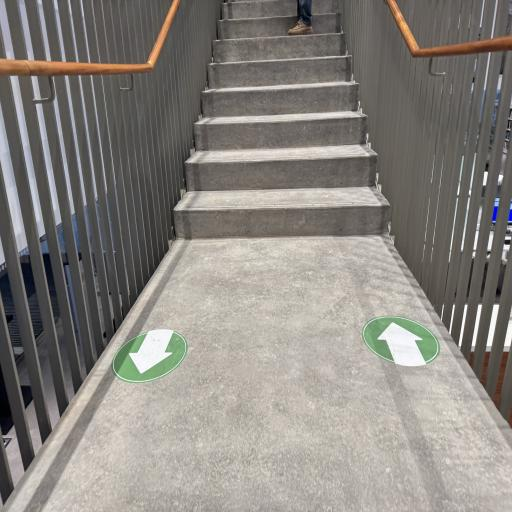Stairs: (174, 0, 389, 238), (221, 0, 338, 20)
